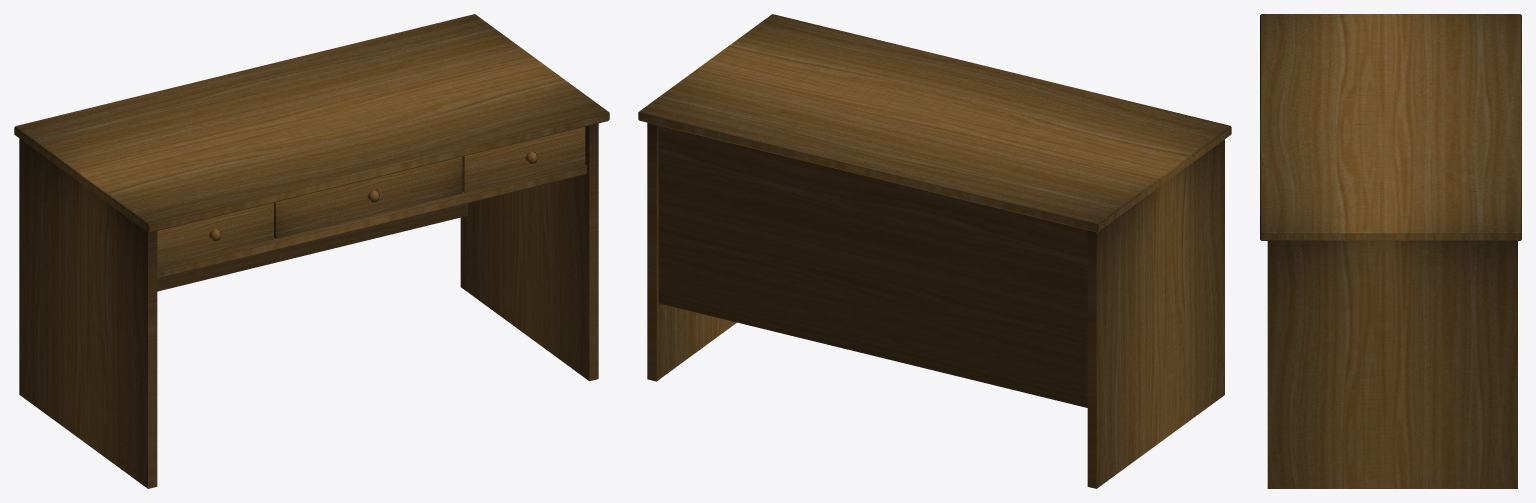
File: office_desk.fbx
The picture shows the model from 3 angles, left to right: view 1: azimuth 30°, elevation 25°; view 2: azimuth 150°, elevation 25°; view 3: azimuth 270°, elevation 25°; orthographic projection. The views are drawn at different scales.
Visible parts, largest first — view 1: office_desk; view 2: office_desk; view 3: office_desk.
Boxes of the visible parts, x1=… form: office_desk: x1=14, y1=14, x2=609, y2=488; office_desk: x1=638, y1=14, x2=1231, y2=488; office_desk: x1=1260, y1=14, x2=1521, y2=488.
Size of the model in its own units: 149 by 82.41 by 75.1.
